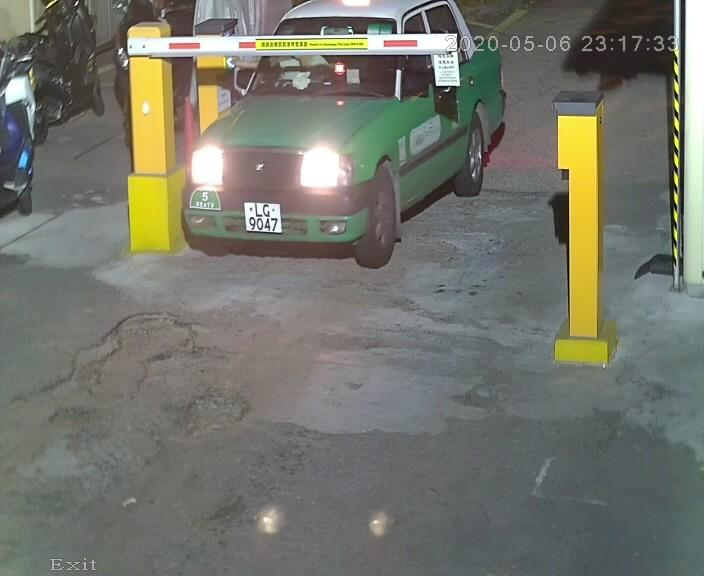Car: (173, 1, 520, 283)
License Plate: (235, 195, 288, 238)
